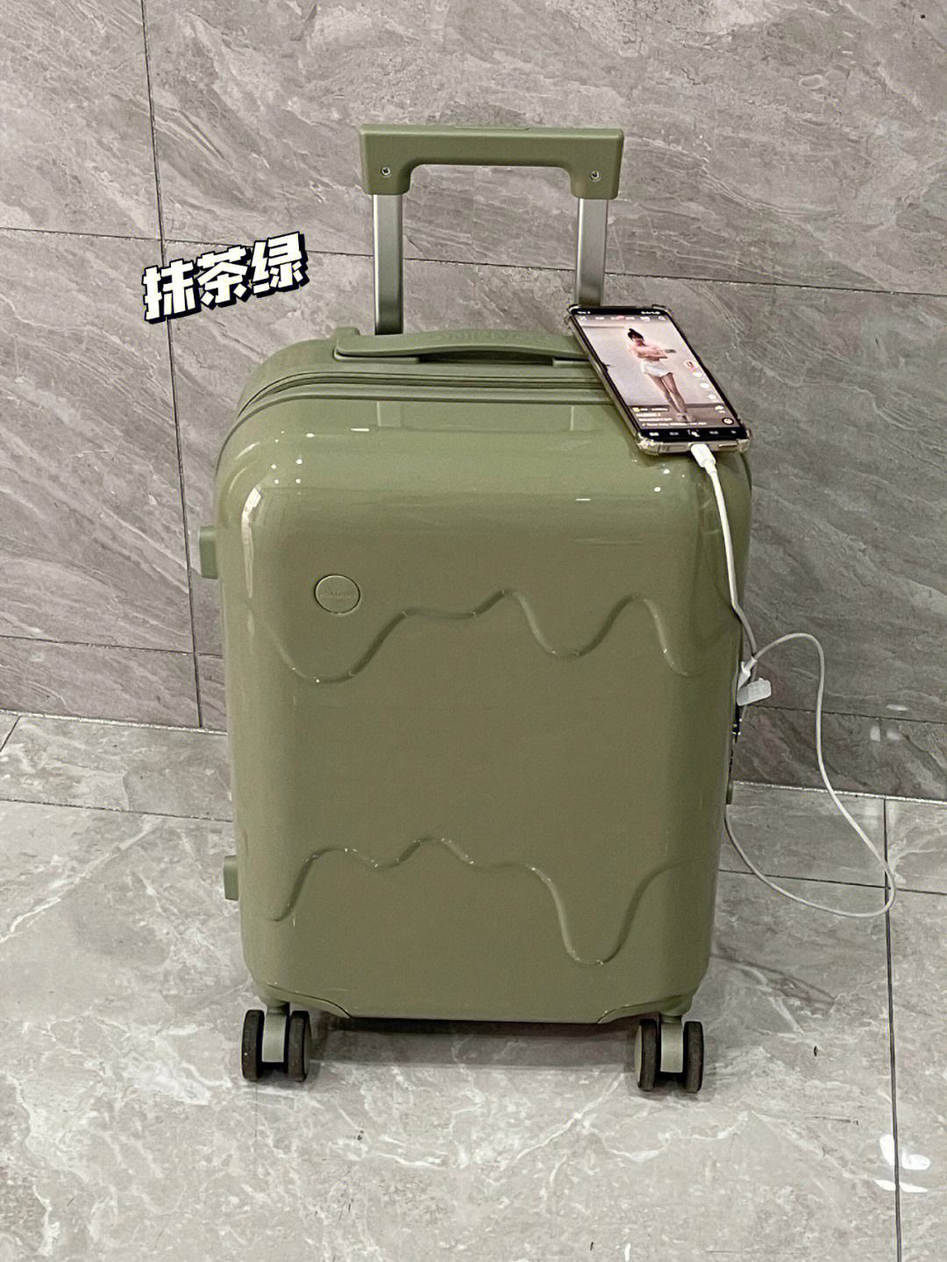box: (217, 335, 751, 1024)
handle: (330, 324, 578, 364)
wheel: (632, 1018, 703, 1094), (240, 1008, 311, 1081)
